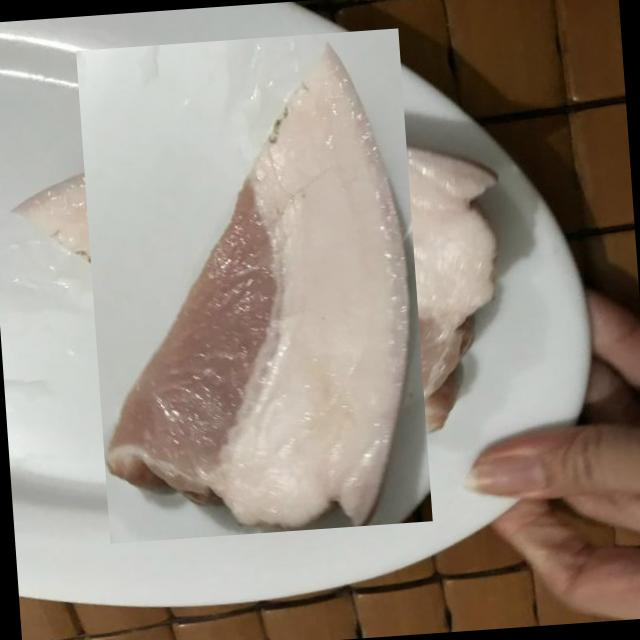chicken: (35, 66, 472, 504)
